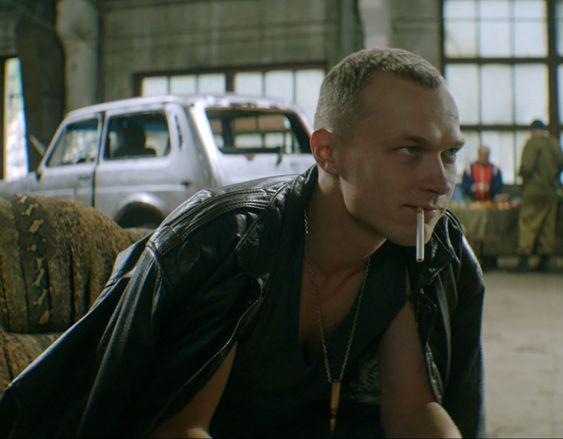cigarette: (416, 206, 424, 262)
